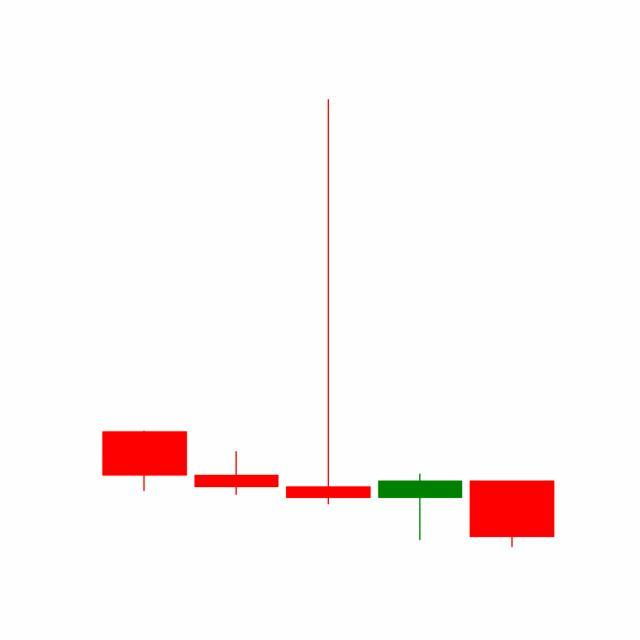Hammer: (374, 474, 468, 543)
